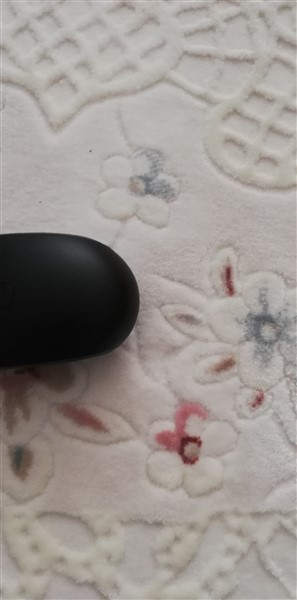mouse: (1, 227, 147, 381)
